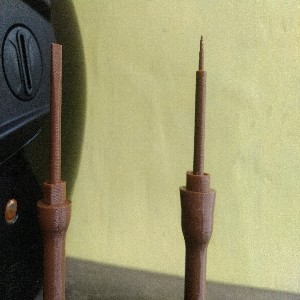obeng: (34, 41, 73, 300)
solder: (178, 33, 217, 300)
